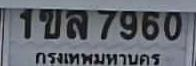0: (163, 11, 181, 40)
1: (19, 7, 33, 38)
6: (141, 10, 159, 39)
7: (96, 9, 117, 39)
9: (118, 10, 136, 39)
A02: (38, 8, 62, 38)
A36: (65, 9, 88, 38)
BKK: (29, 50, 169, 66)
